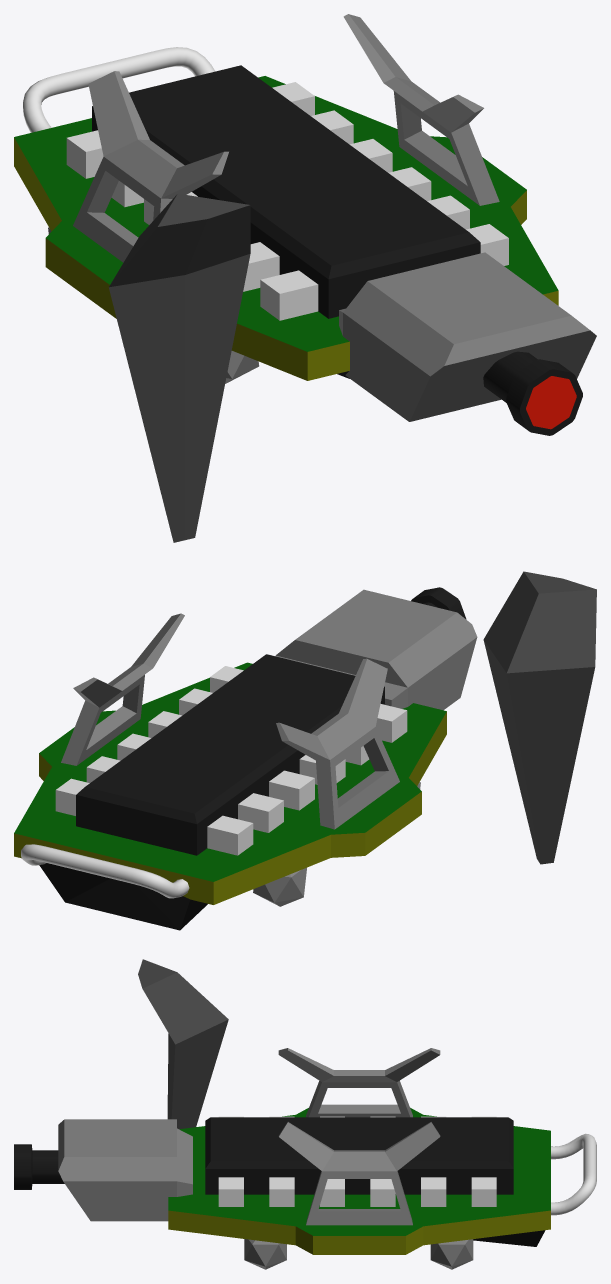
File: Player.fbx
3 views of the same model, one above another, from view 1: azimuth 30°, elevation 25°; view 2: azimuth 150°, elevation 25°; view 3: azimuth 270°, elevation 25° (orthographic). The views are drawn at different scales.
Visible parts, largest first — view 1: Body, Leg; view 2: Body, Leg; view 3: Body, Leg.
Part boxes in pixels (left/top/right/bottom): Body: left=14, top=14, right=596, bottom=435; Leg: left=109, top=193, right=250, bottom=542; Body: left=14, top=587, right=477, bottom=930; Leg: left=483, top=571, right=596, bottom=864; Body: left=14, top=1048, right=596, bottom=1269; Leg: left=138, top=959, right=228, bottom=1129.
Size of the model in its own units: 2.06 by 1.28 by 3.05.
